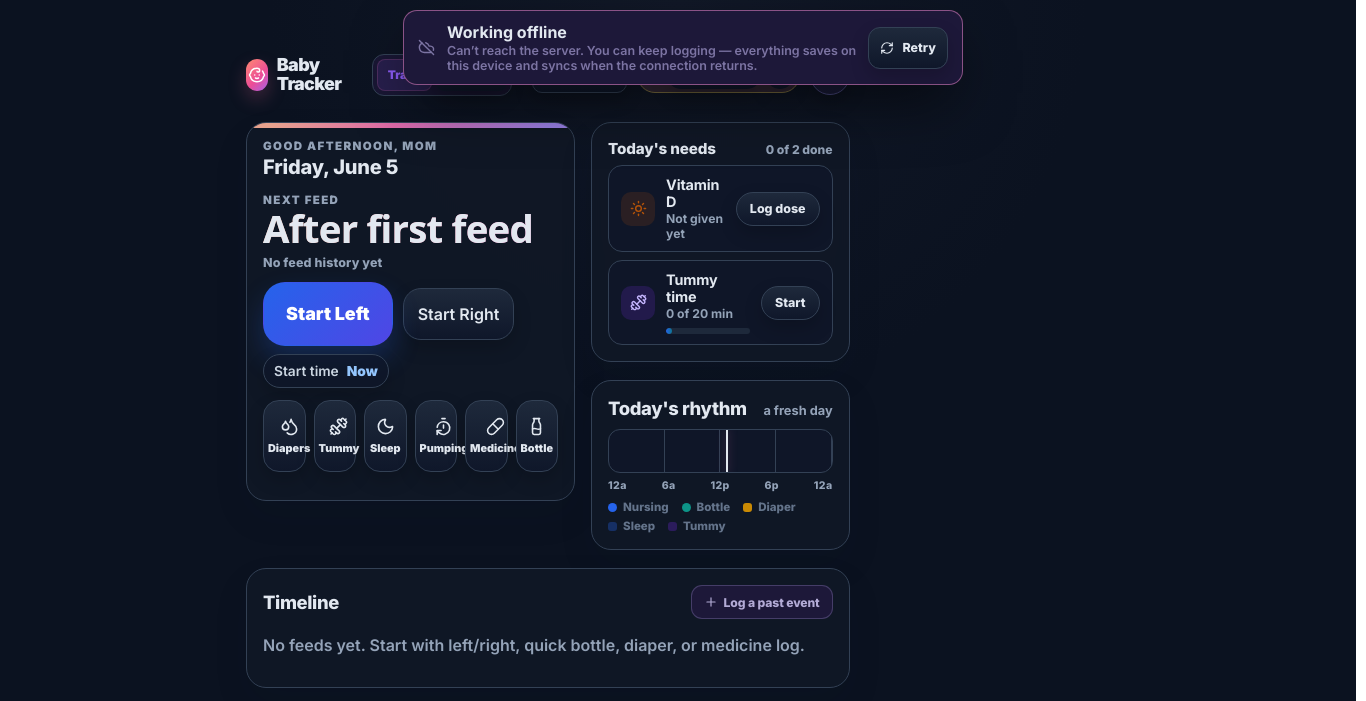
Test: App interactions › resets a backdated start time after saving so the next feed starts now
This screenshot has width=1366, height=701.
Click the button with aria-label "Adjust start time" at (326, 371), box [263,354,389,388]
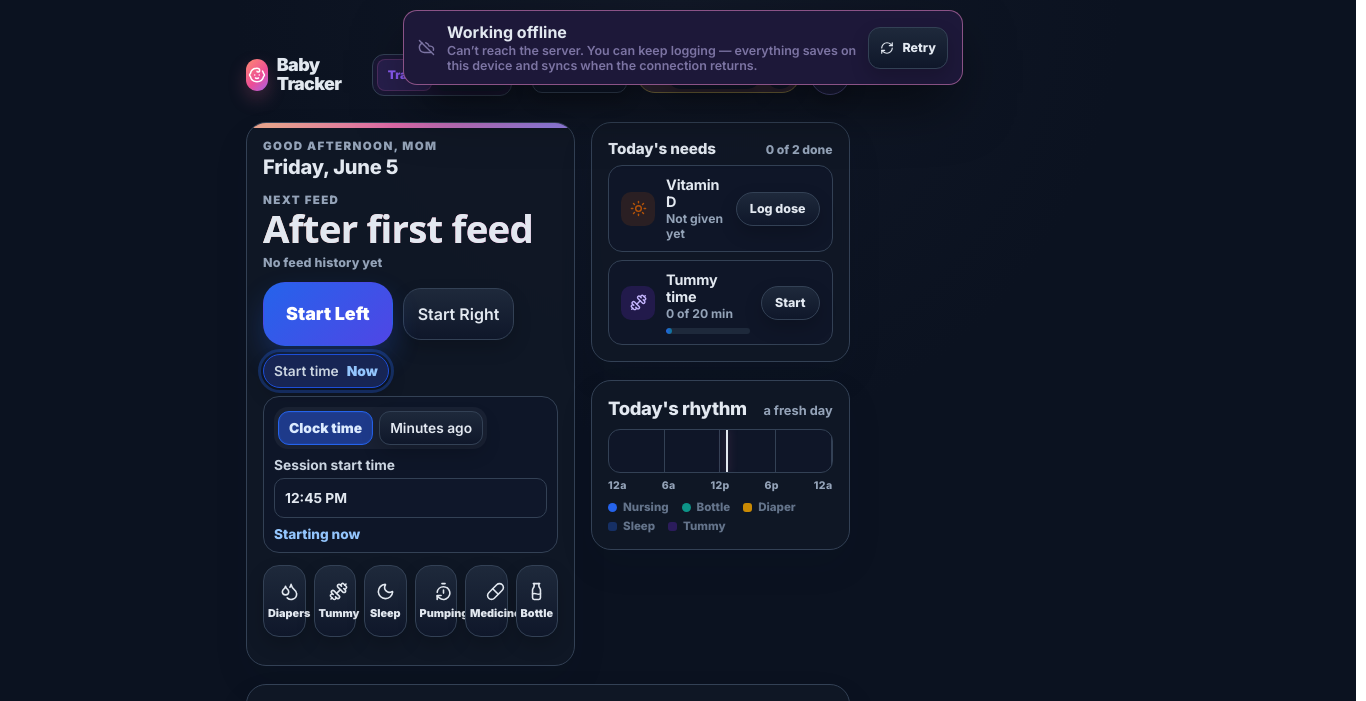
Replace the text in the field labelled "Session start time" with "12:30pm" at (410, 498), box [274,478,547,518]
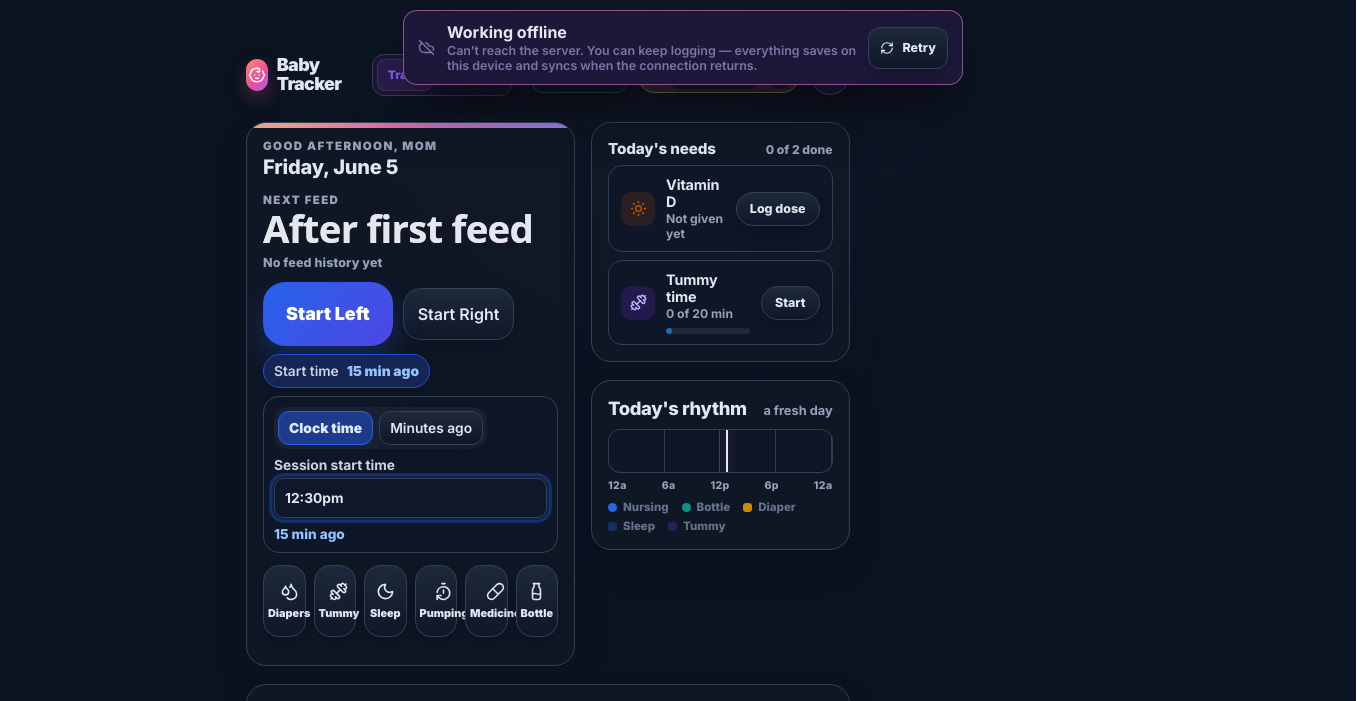
Click the button with aria-label "Start suggested side: Left" at (328, 314), box [263,282,393,346]
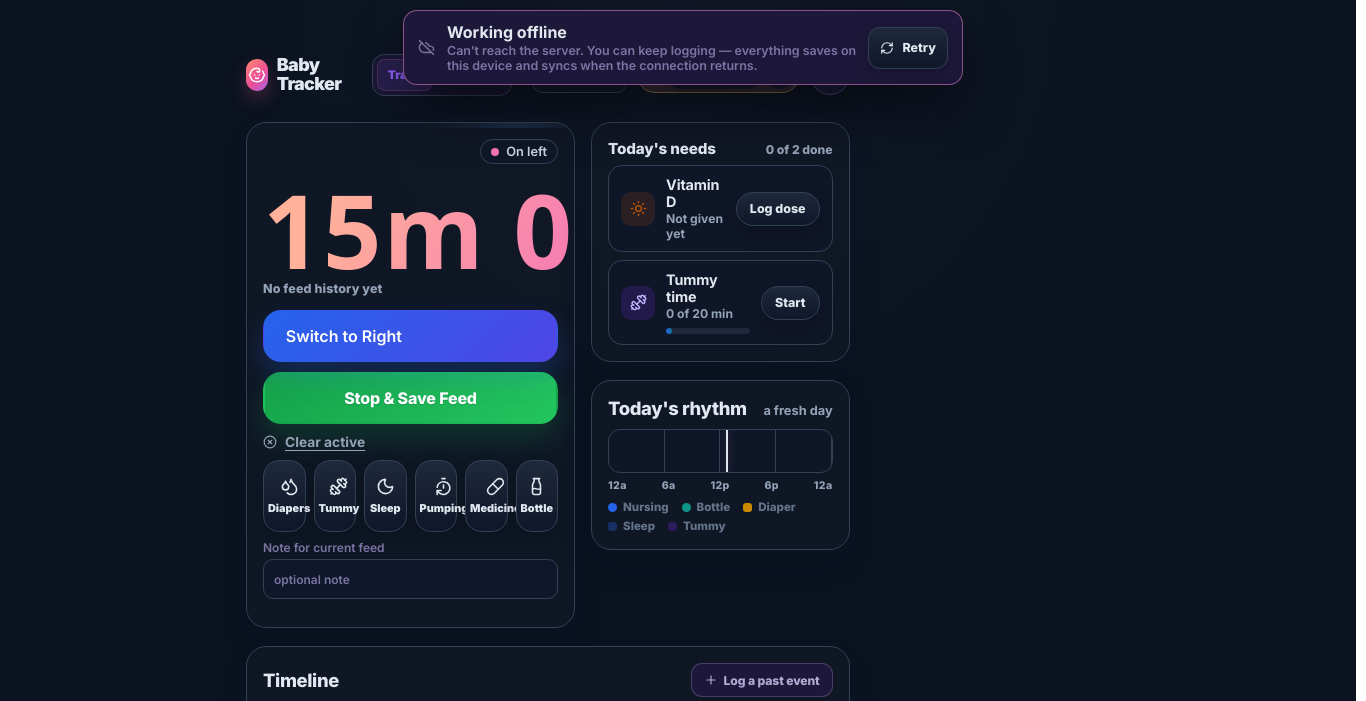
Click the button with aria-label "End feed" at (410, 398), box [263,372,558,424]
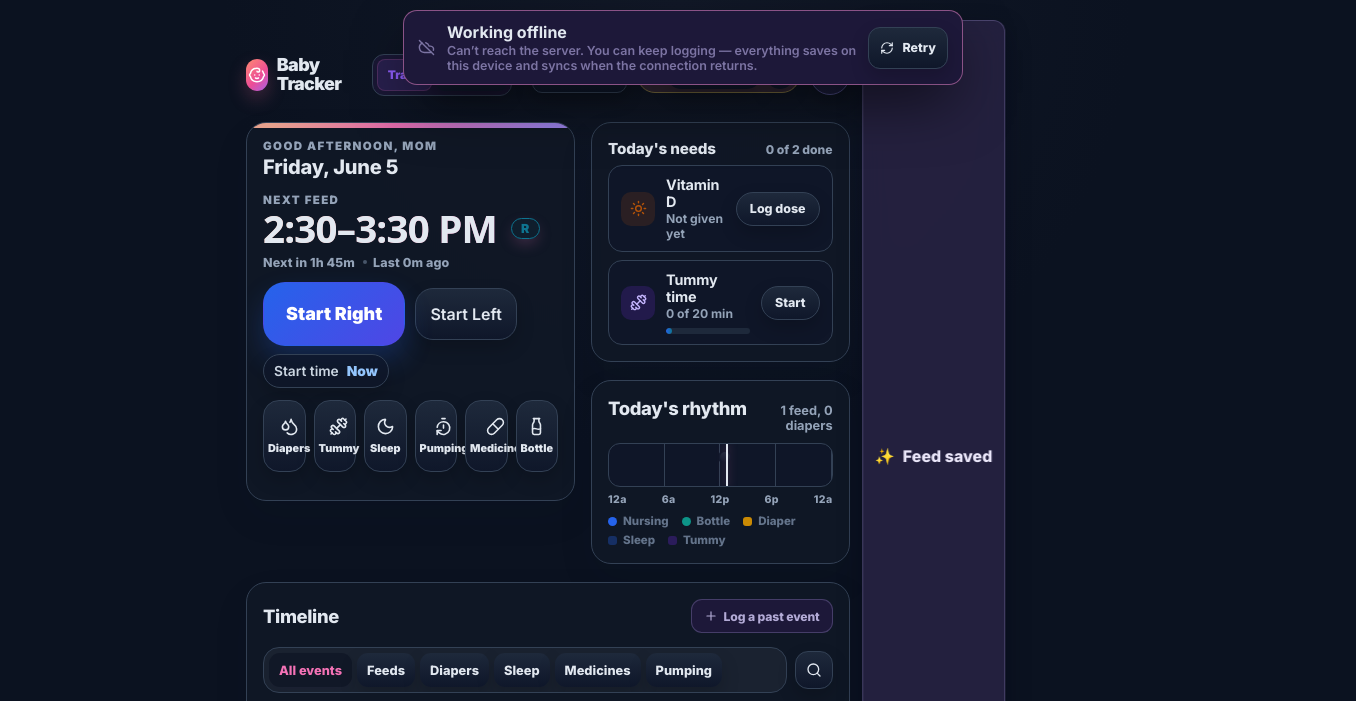
Click the button with aria-label "Start suggested side: Right" at (334, 314), box [263,282,405,346]
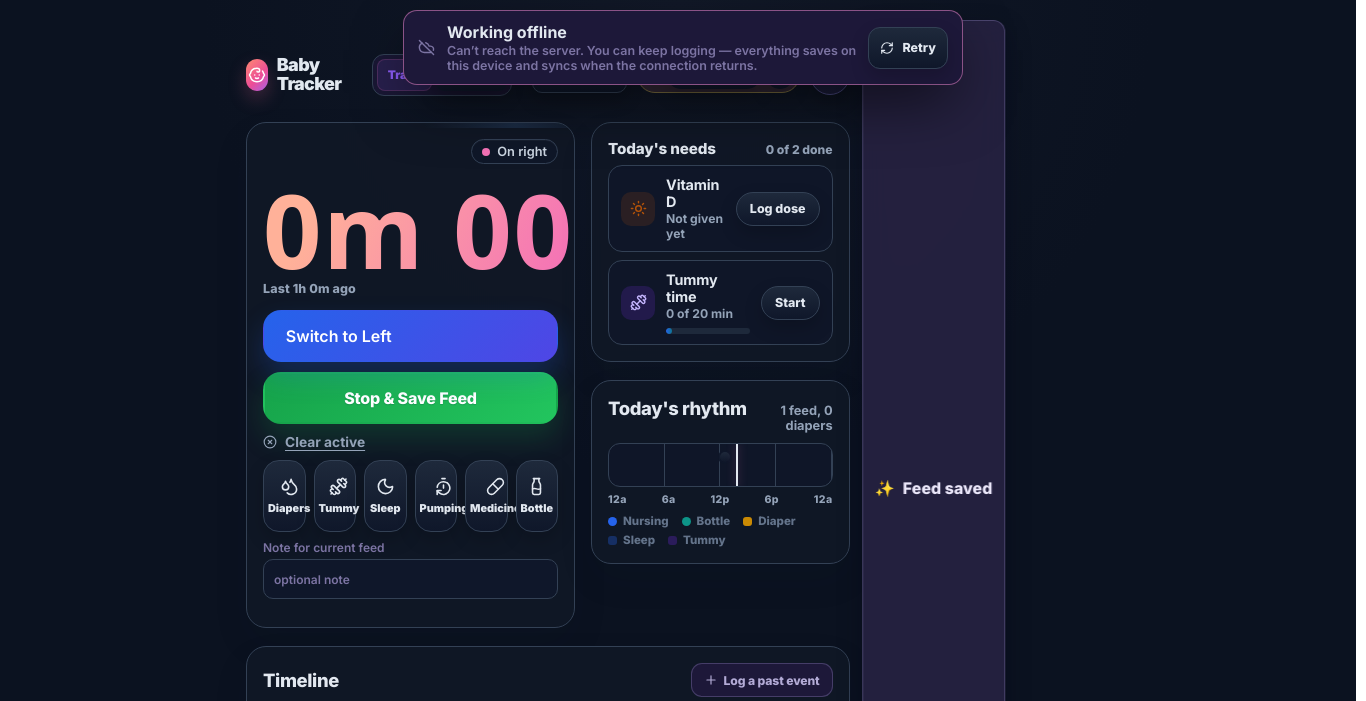
Expected: the text "0m 00s" is shown, [263,185,575,275]
